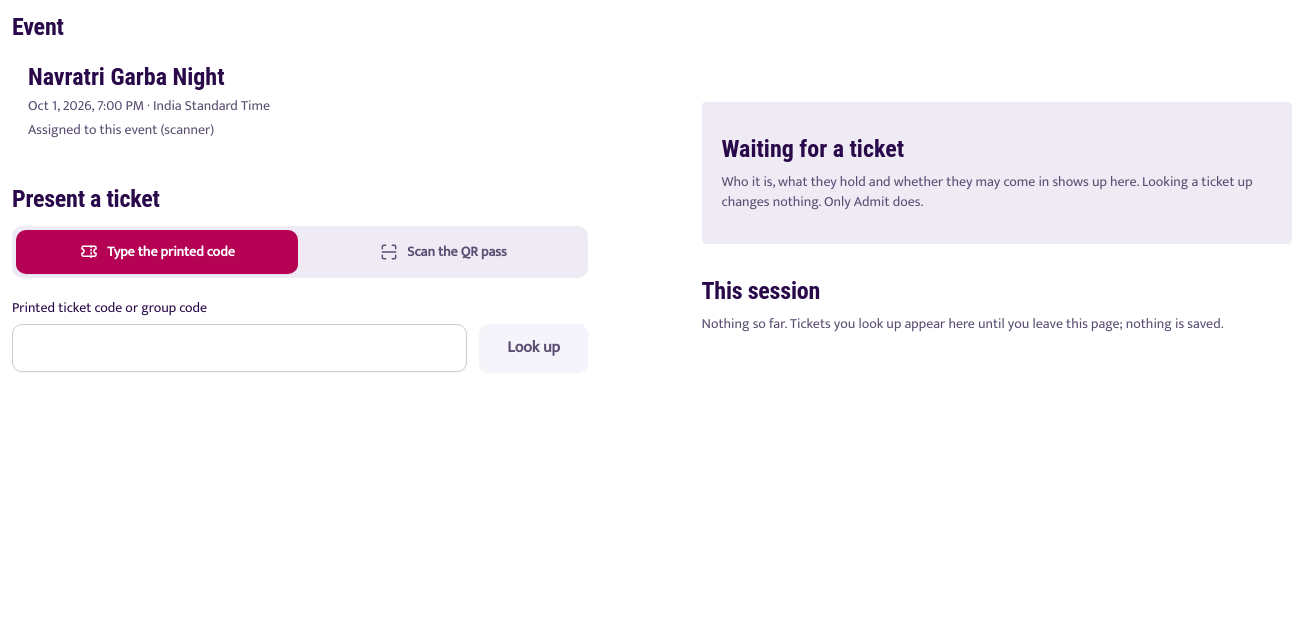
Test: DoorWorkspace: looking up, then admitting › never offers Admit for a ticket that is already in
The width and height of the screenshot is (1304, 628).
Type "det-abc123xyz" into the field labelled "Printed ticket code or group code" at (240, 348), box [12,324,467,372]
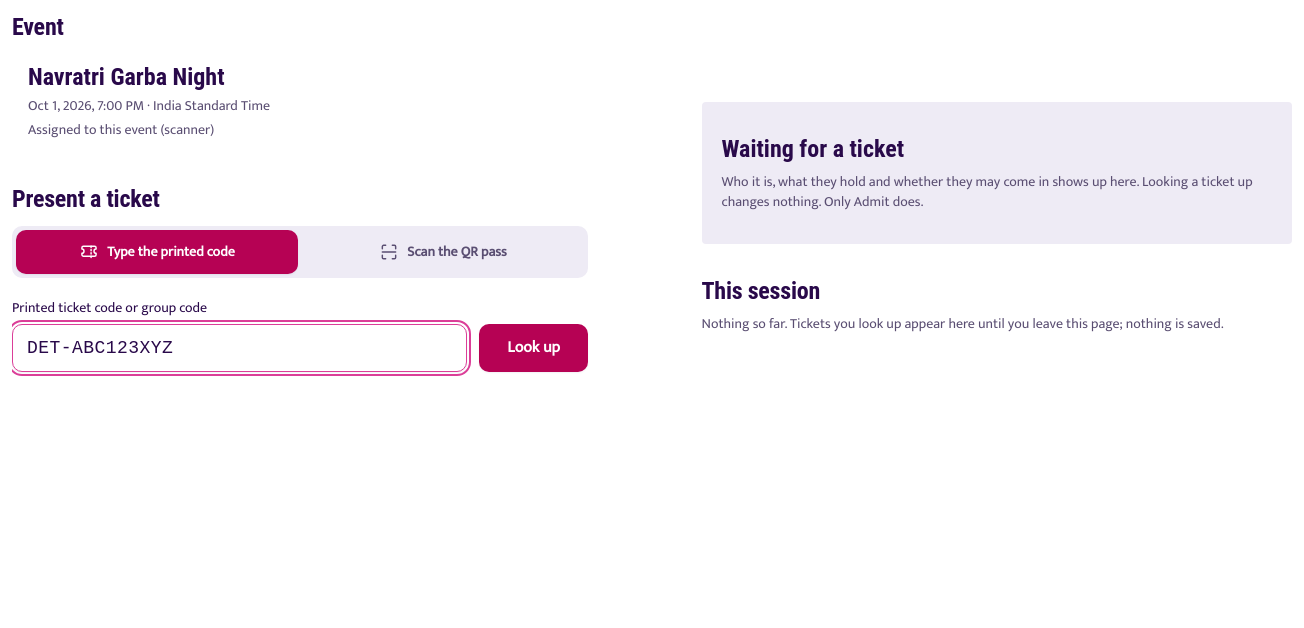
Click the button "Look up" at (534, 348), box [479,324,588,372]
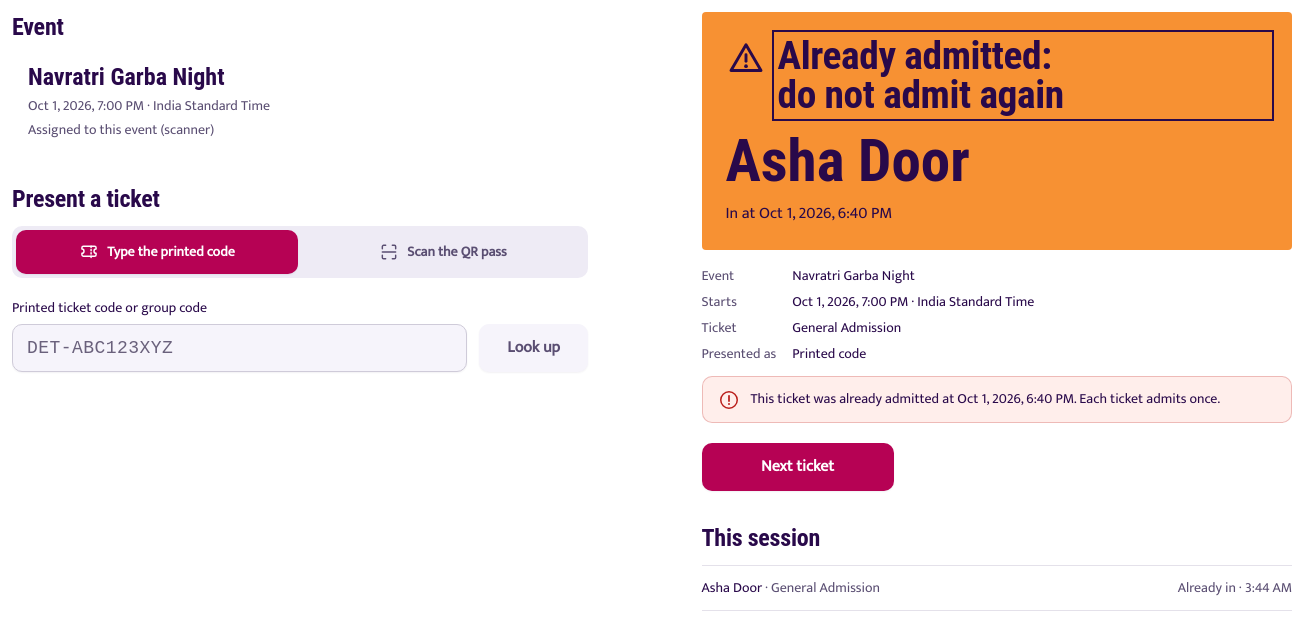
Expected: the heading "Already admitted: do not admit again" is shown, [778,32,1064,118]
Expected: the message shows "already admitted", [750,387,939,410]
